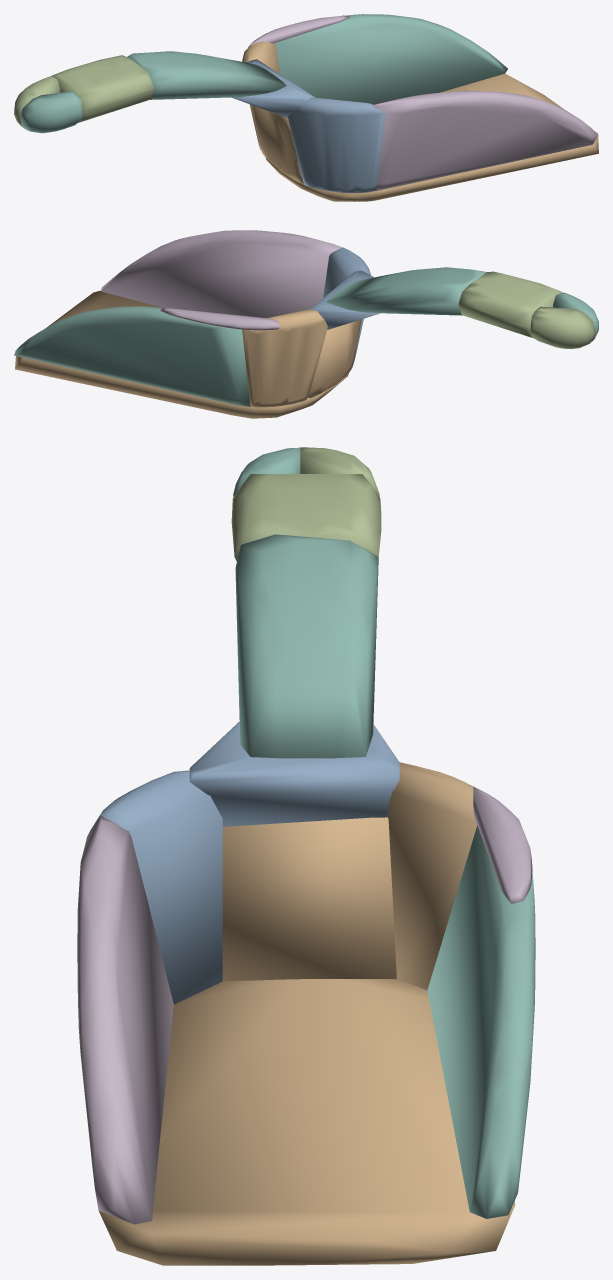
3 renders of one model, top to bottom at view 1: azimuth 30°, elevation 25°; view 2: azimuth 150°, elevation 25°; view 3: azimuth 270°, elevation 25°, orthographic. The views are drawn at different scales.
Size of the model in its own units: 1.9 by 0.5506 by 0.6952.
